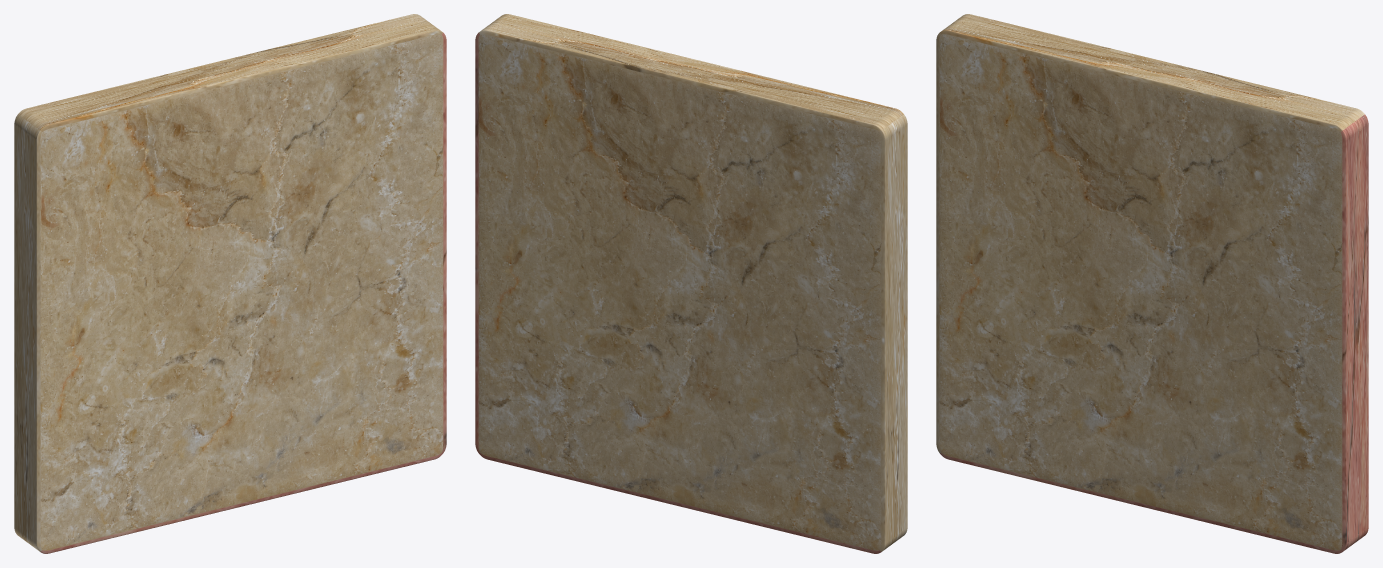
The model's file is limestone-03.glb.
3 views of the same model, side by side, from view 1: azimuth 30°, elevation 25°; view 2: azimuth 150°, elevation 25°; view 3: azimuth 330°, elevation 25° (orthographic).
Visible parts, largest first — view 1: Cube; view 2: Cube; view 3: Cube.
Part boxes in pixels (box(x1,y1,x2,y2)): Cube: box(14, 14, 446, 553); Cube: box(475, 14, 907, 553); Cube: box(936, 14, 1368, 553).
Bounding box in the file's own units: 0.1 × 0.1 × 0.01.
Materials: 2 (2 with a texture image).
